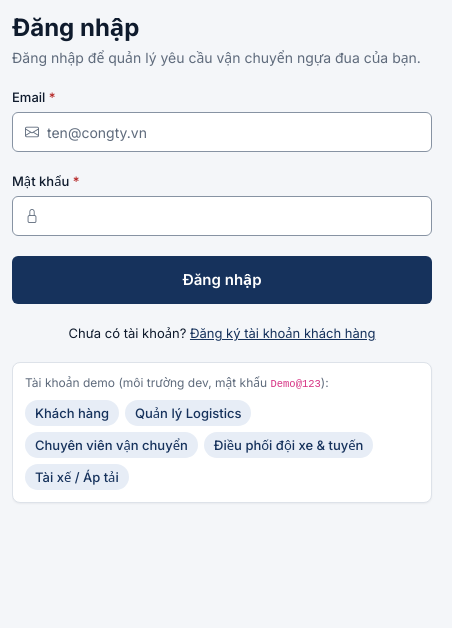
LoginPage › sai thông tin (401) → hiển thị thông báo lỗi thân thiện
The width and height of the screenshot is (452, 628).
In the field labelled "Email *": (233, 132) [47,113,419,151], type "customer@irtms.vn"
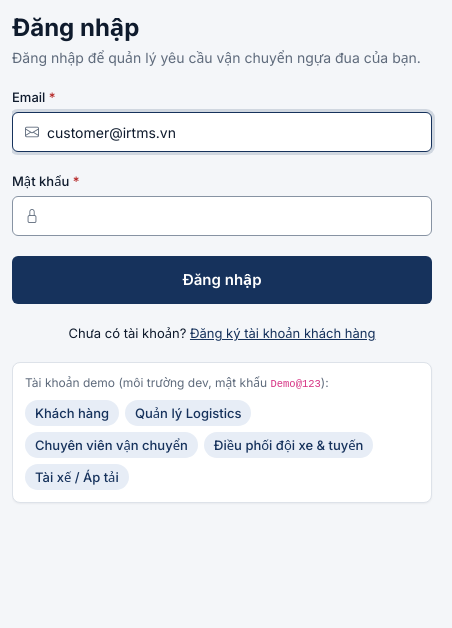
In the password field labelled "Mật khẩu *": (233, 216) [47,197,419,235], type "Sai@12345"
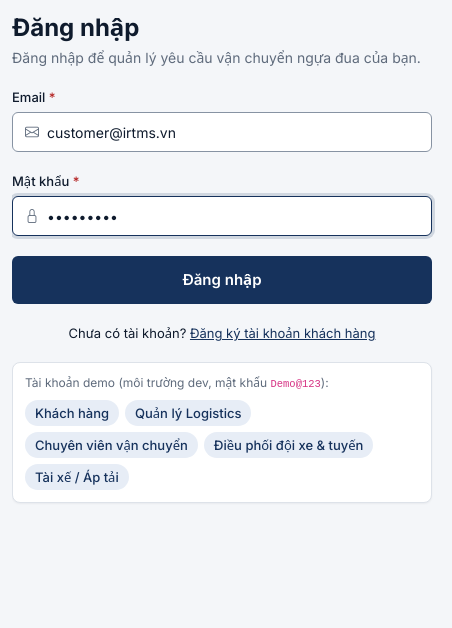
Click the button "Đăng nhập": (222, 280) [12,256,432,304]
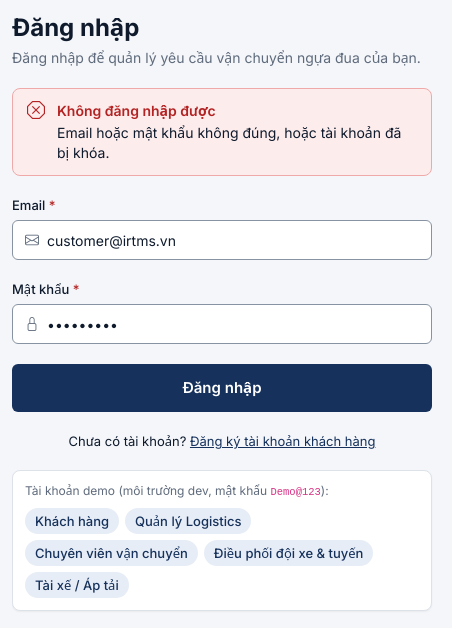
Check: the text "Email hoặc mật khẩu không đúng, hoặc tài khoản đã bị khóa." is shown, box [57,123,417,163]
